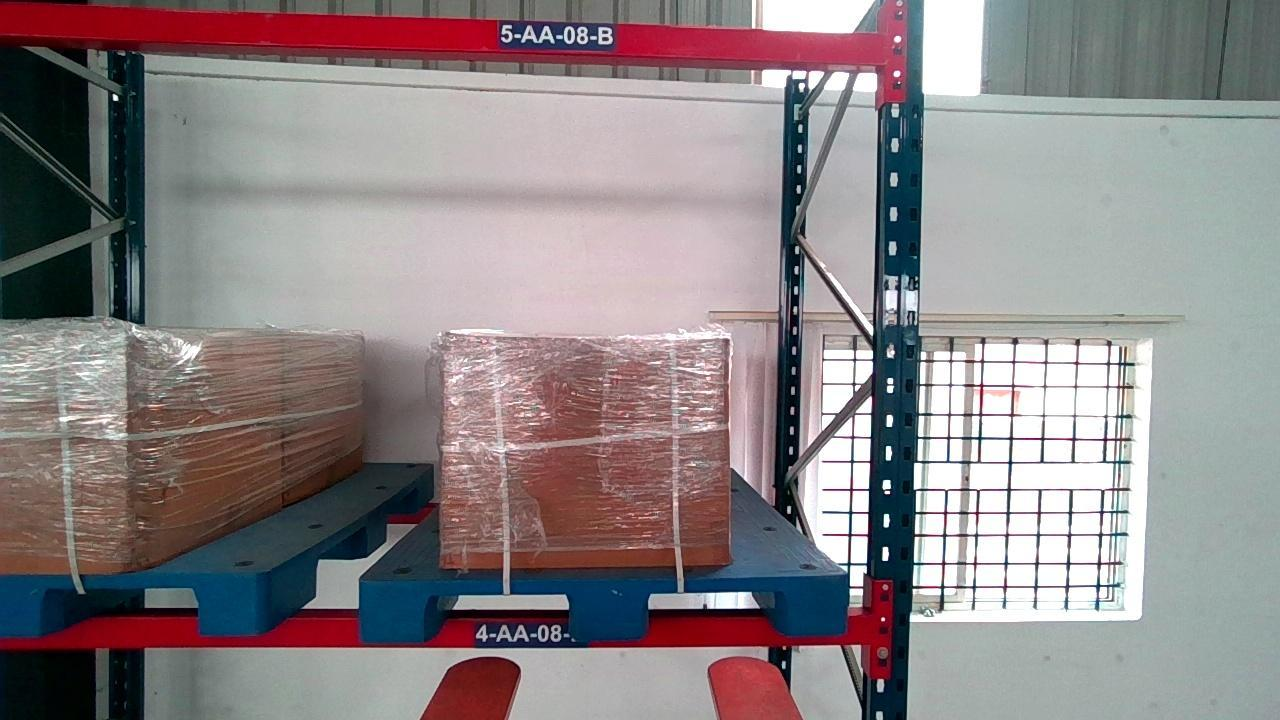h_rack: (0, 0, 886, 65), (2, 611, 872, 646)
small_pallet: (362, 574, 847, 639), (6, 575, 259, 635)
